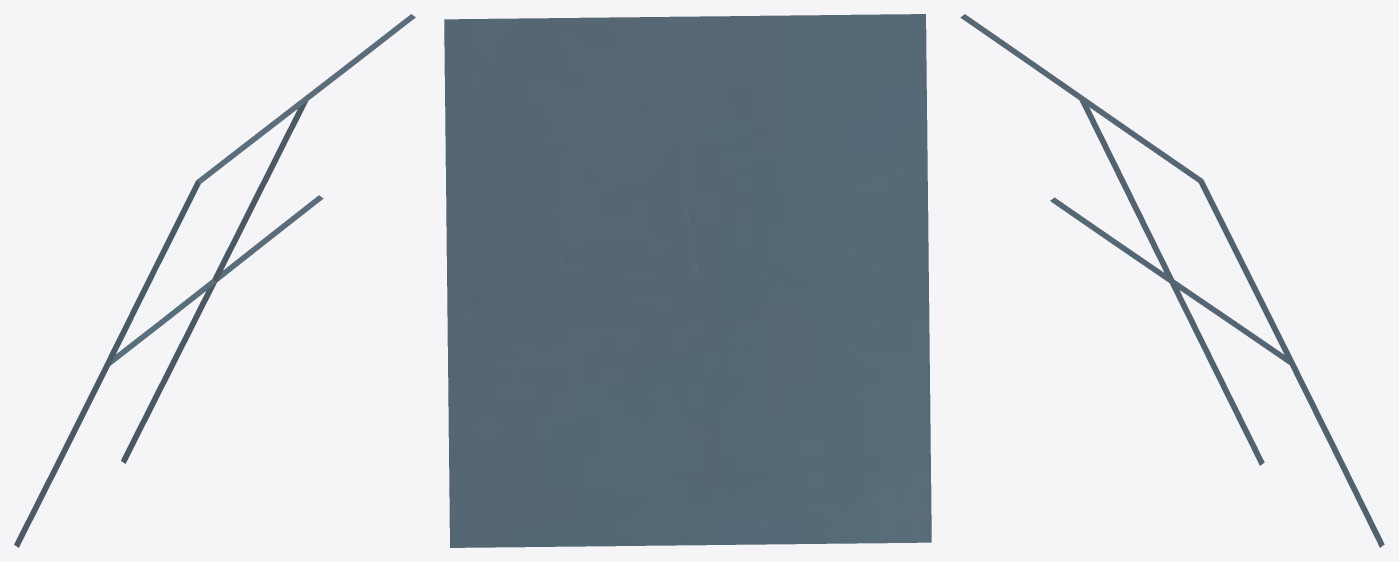
The picture shows the model from 3 angles, left to right: view 1: azimuth 30°, elevation 25°; view 2: azimuth 150°, elevation 25°; view 3: azimuth 270°, elevation 25°; orthographic projection. The views are drawn at different scales.
Bounding box in the file's own units: 153 × 139 × 129.
1 material, 1 textured.
